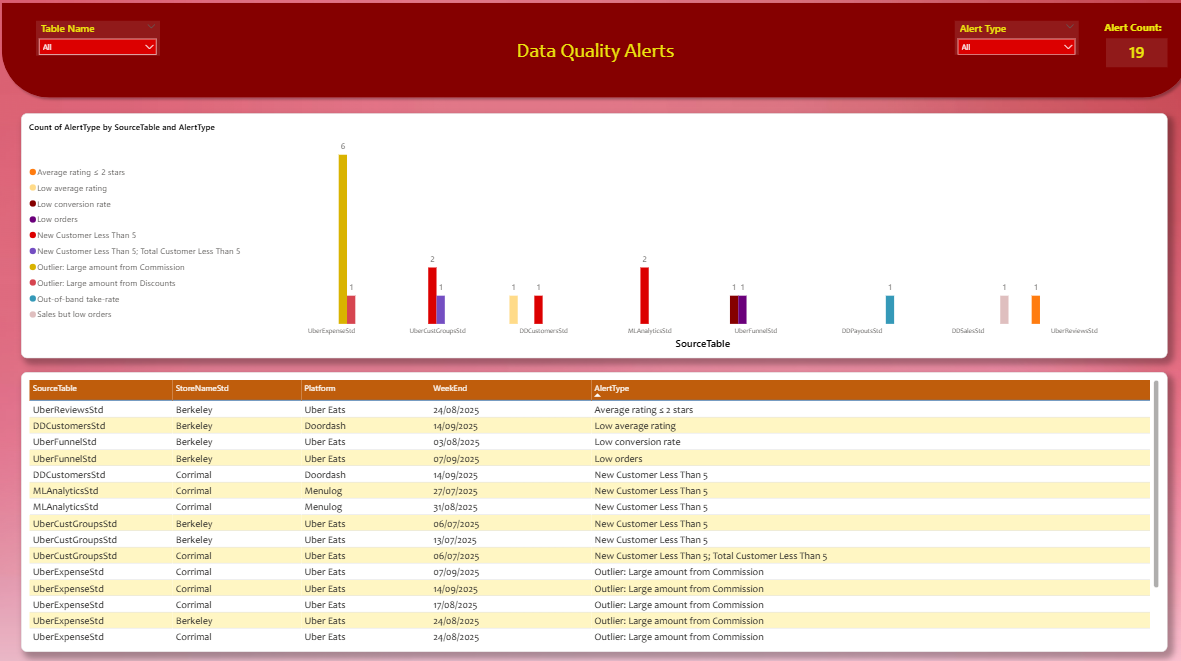

The dashboard page shown, as its layout file describes it:
{"tool":"powerbi","page":{"name":"DQ Alerts","canvas":[1920,1080],"ordinal":4},"visuals":[{"type":"shape","box":[0,0,1920,170],"z":0},{"type":"tableEx","fields":{"Values":["DQ_Alerts.SourceTable","DQ_Alerts.StoreNameStd","DQ_Alerts.Platform","DQ_Alerts.WeekEnd","DQ_Alerts.AlertType"]},"box":[40,600,1834,448],"z":1000},{"type":"clusteredColumnChart","fields":{"Category":["DQ_Alerts.SourceTable"],"Y":["CountNonNull(DQ_Alerts.AlertType)"],"Series":["DQ_Alerts.AlertType"]},"box":[40,186,1834,392],"z":2000},{"type":"textbox","box":[802,60,314,52],"z":3000},{"type":"card","fields":{"Values":["CountNonNull(DQ_Alerts.AlertType)"]},"box":[1776,66,98,46],"z":4000},{"type":"textbox","box":[1768,32,108,34],"z":5000},{"type":"slicer","fields":{"Values":["DimWeek.WeekEnd"]},"box":[1534,38,198,54],"z":6000},{"type":"slicer","fields":{"Values":["DQ_Alerts.SourceTable"]},"box":[64,38,198,56],"z":7000}]}

Visuals, with their boxes in screenshot pixels (x1, y1, x2, y2), scaled from the page's 1920x1080 canvas onto the 1181x661 screenshot:
shape: (0,0,1180,104)
tableEx - DQ_Alerts.SourceTable x DQ_Alerts.StoreNameStd: (25,367,1153,641)
clusteredColumnChart - DQ_Alerts.SourceTable x CountNonNull(DQ_Alerts.AlertType): (25,114,1153,354)
textbox: (493,37,686,69)
card - CountNonNull(DQ_Alerts.AlertType): (1092,40,1153,69)
textbox: (1088,20,1154,40)
slicer - DimWeek.WeekEnd: (944,23,1065,56)
slicer - DQ_Alerts.SourceTable: (39,23,161,58)
